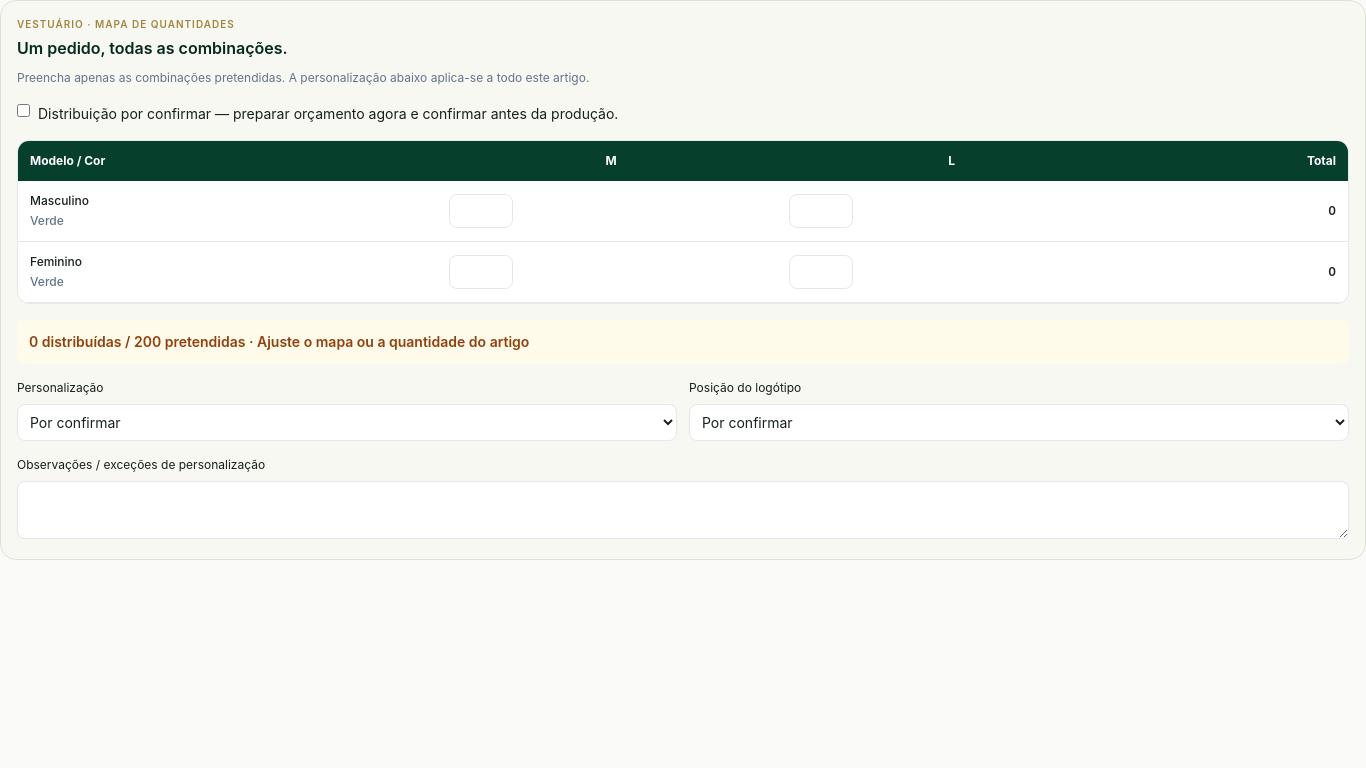
Test case: Apparel distribution › totals 200 polos across model, color and size without generating manual lines
The image size is (1366, 768).
In the number field named "Masculino Verde M": (481, 211) [449,194,513,228], type "100"
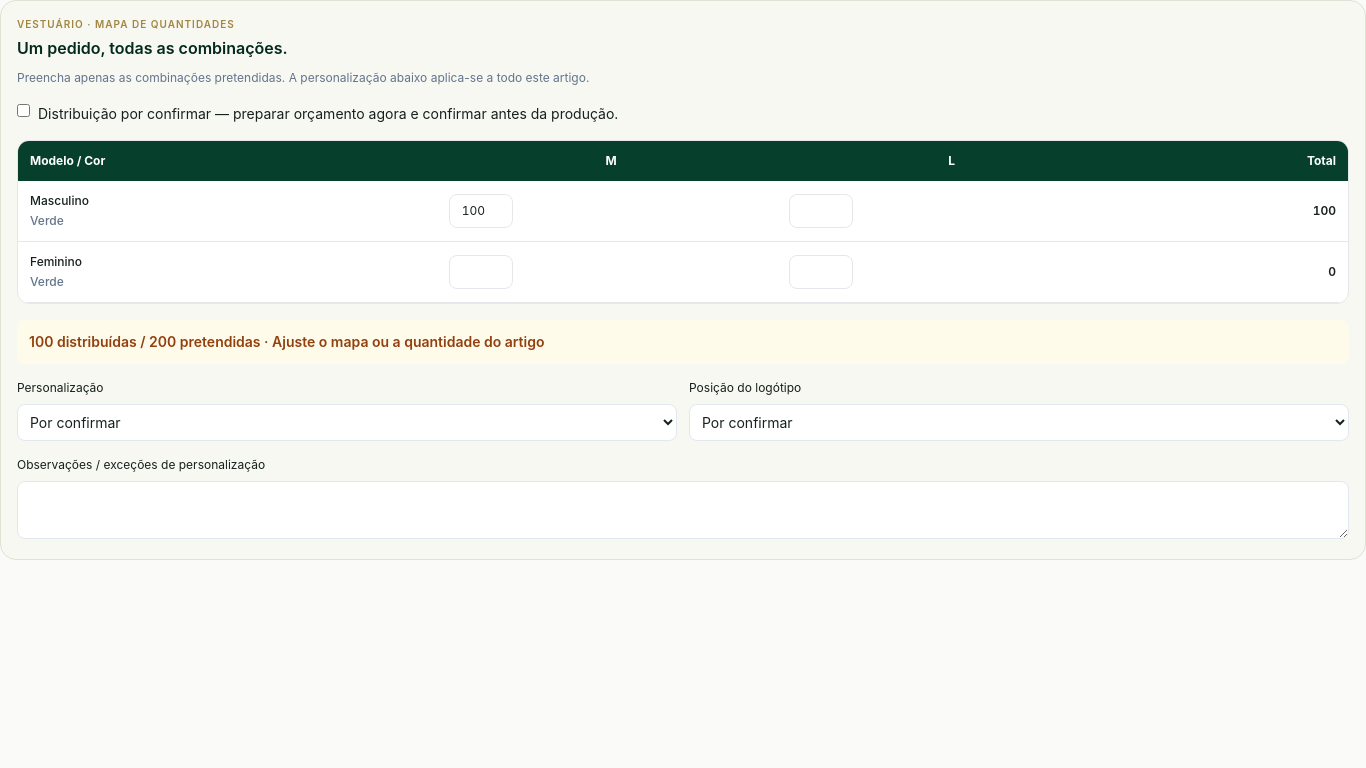
In the number field named "Feminino Verde L": (821, 272) [789,255,853,289], type "100"
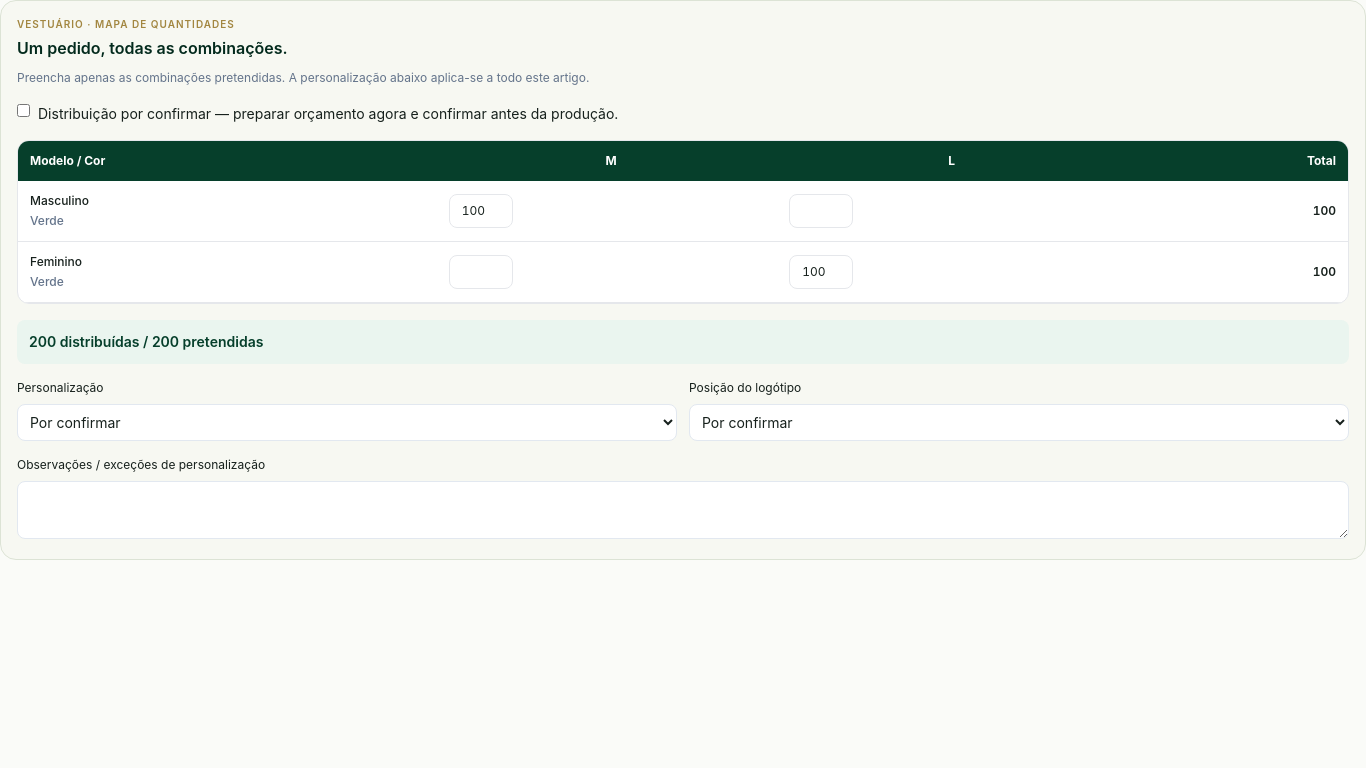
Check: the message reads "200 distribuídas / 200 pretendidas", box [17,320,1349,364]
Replace the text in the number field named "Masculino Verde M" with "50": (481, 211) [449,194,513,228]
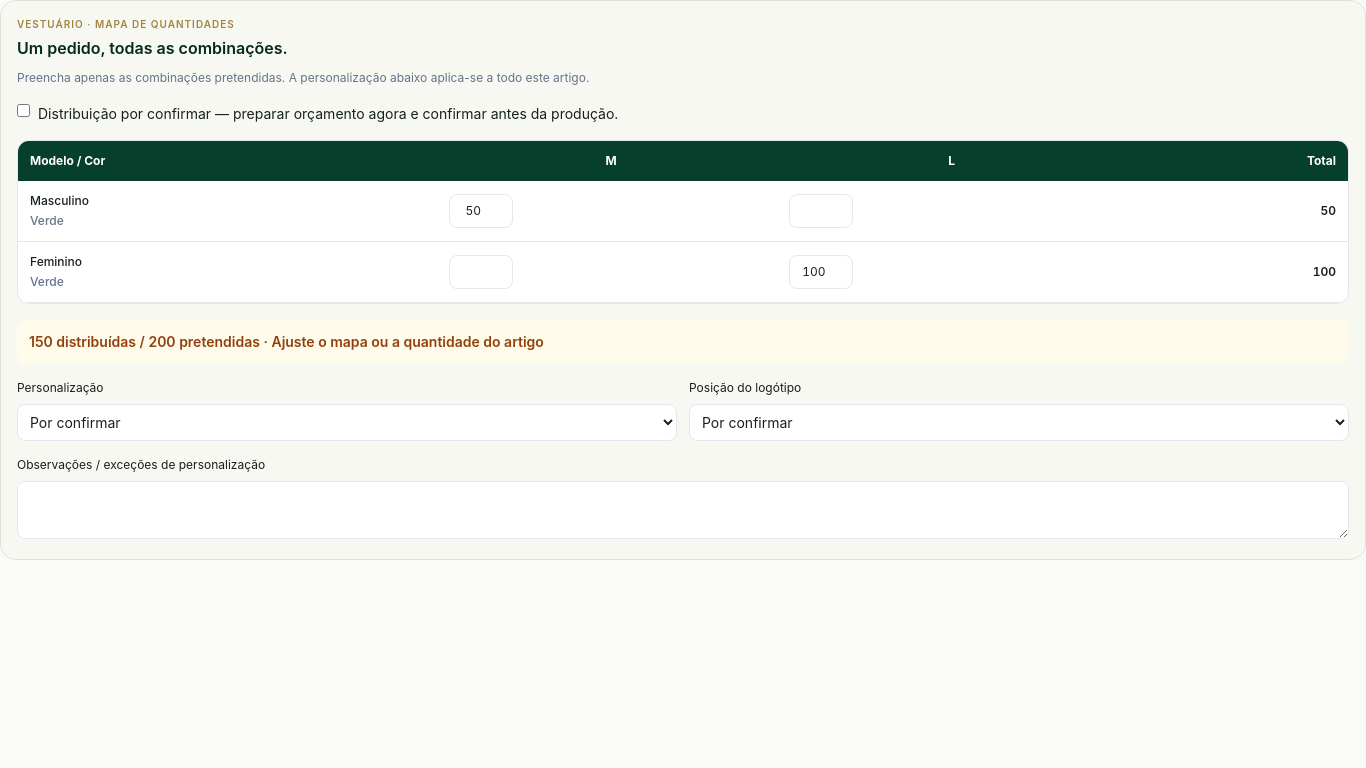
Check: the message shows "Ajuste o mapa", box [260,333,544,350]
Click the checkbox: (24, 110) [17,104,30,117]
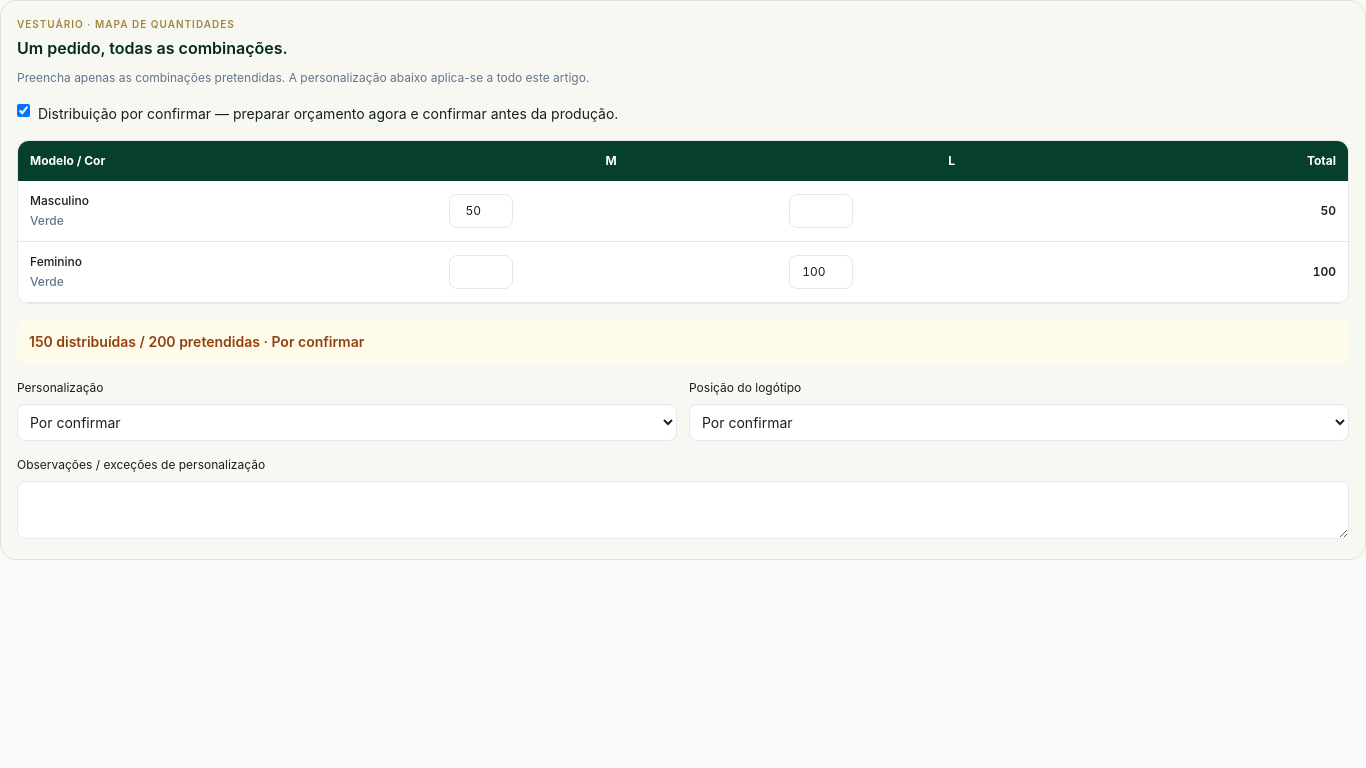
Check: the message shows "Por confirmar", box [260,333,364,350]
